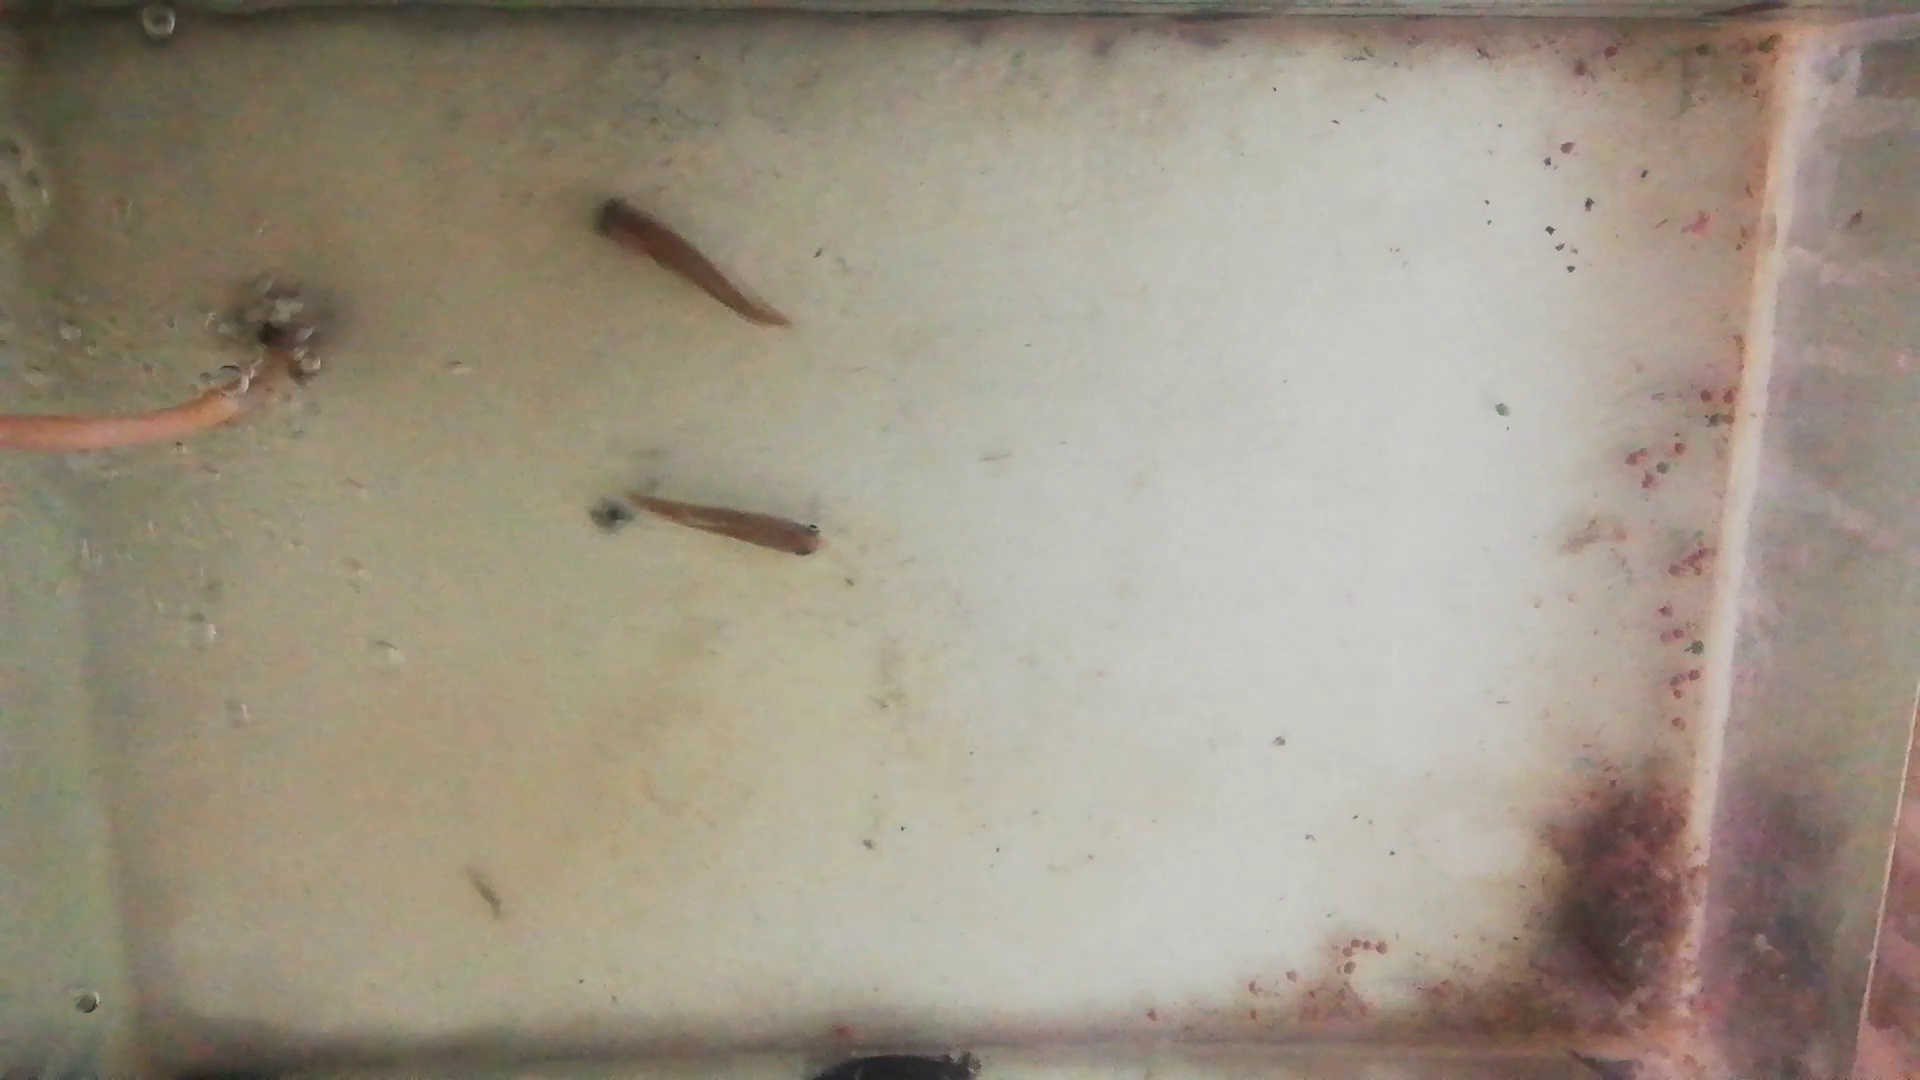fish: (585, 194, 789, 330), (626, 495, 829, 564)
